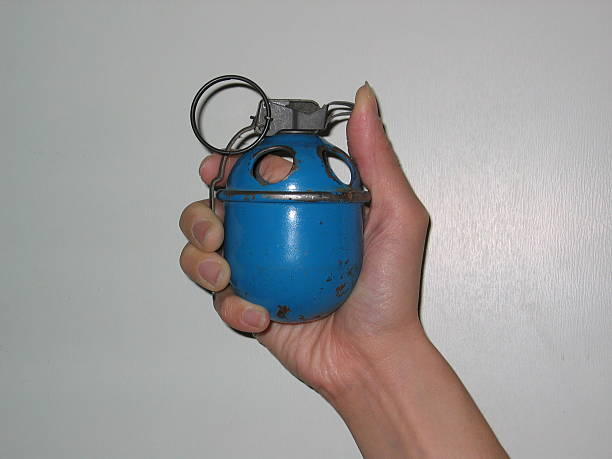e1: (191, 76, 371, 328)
